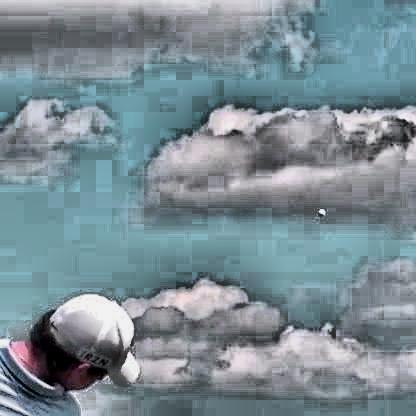golfball: (314, 206, 323, 215)
